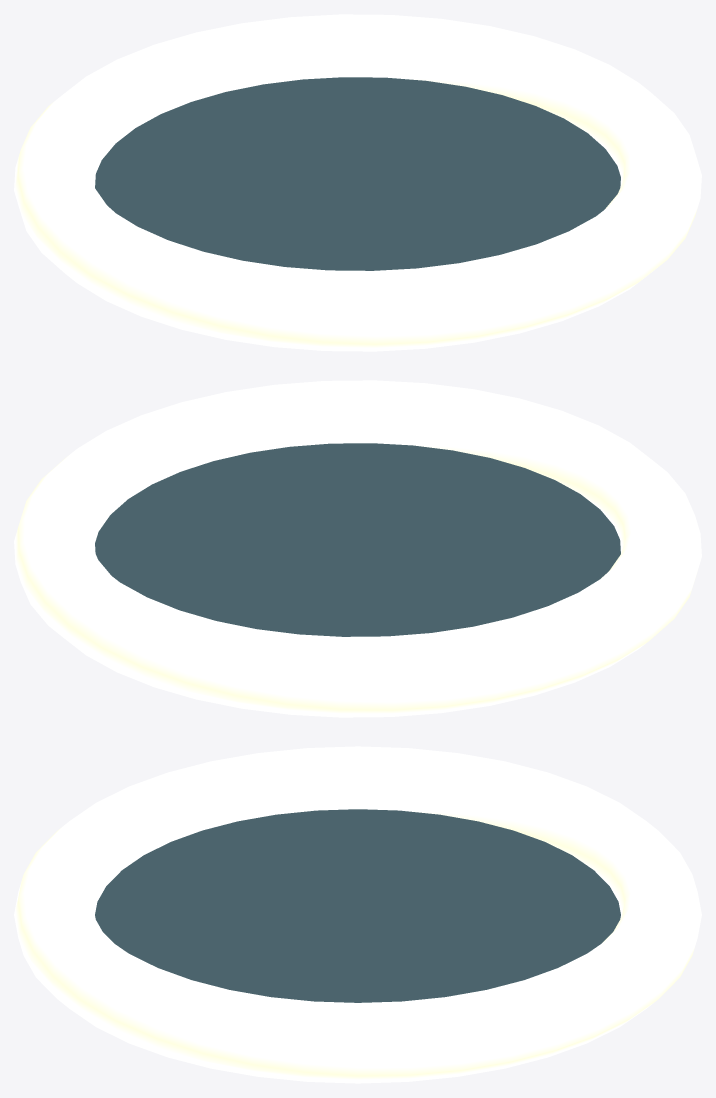
File: saucer.glb
3 views of the same model, one above another, from view 1: azimuth 30°, elevation 25°; view 2: azimuth 150°, elevation 25°; view 3: azimuth 270°, elevation 25° (orthographic).
Visible parts, largest first — view 1: Torus, Cylinder; view 2: Torus, Cylinder; view 3: Torus, Cylinder.
Boxes of the visible parts, x1,y1,x2,y2 form: Torus: (14, 14, 701, 351); Cylinder: (95, 77, 620, 270); Torus: (14, 380, 701, 717); Cylinder: (95, 443, 620, 636); Torus: (14, 746, 701, 1083); Cylinder: (95, 809, 620, 1002).
Bounding box in the file's own units: 1.02 × 0.12 × 1.02.
